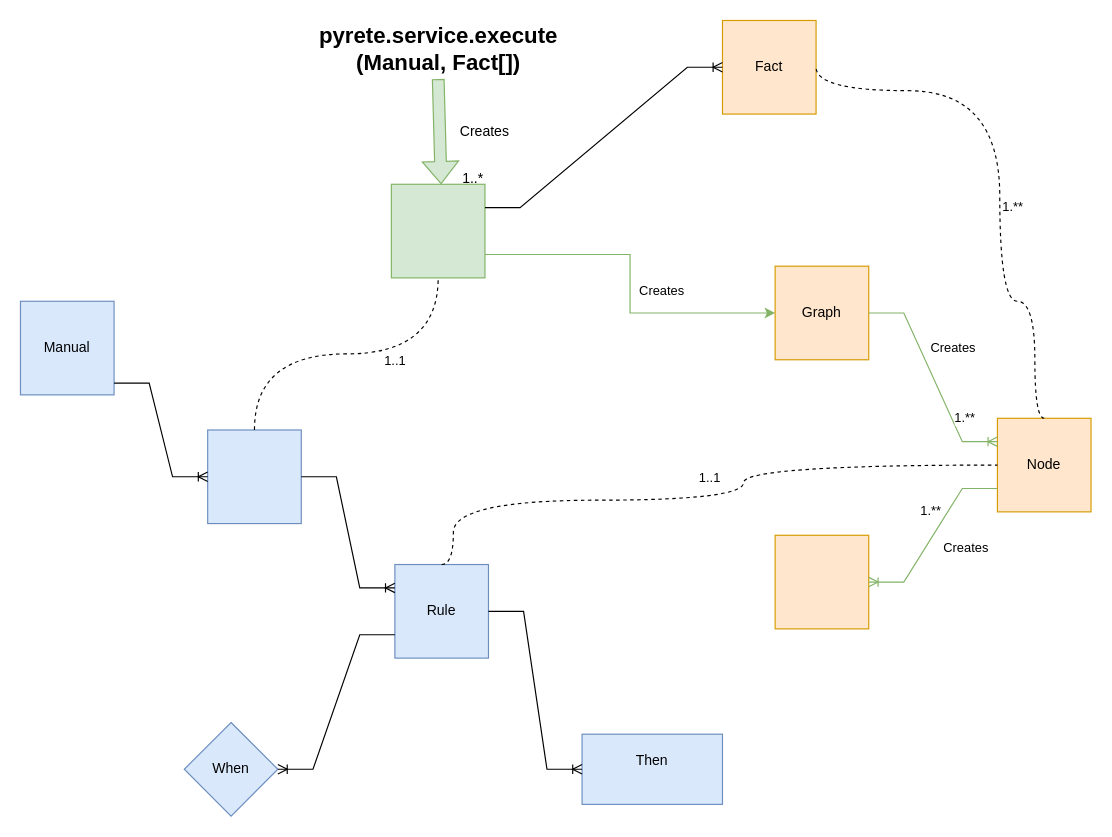
The diagram is 1112 pixels wide and 837 high, and some of its shapes have lost their labels. Here are the shapes that lost their labels. From the top down, the box of each, then its label:
(390, 183, 485, 278): Session
(207, 429, 301, 524): Ruleset
(774, 534, 869, 629): Leaf
